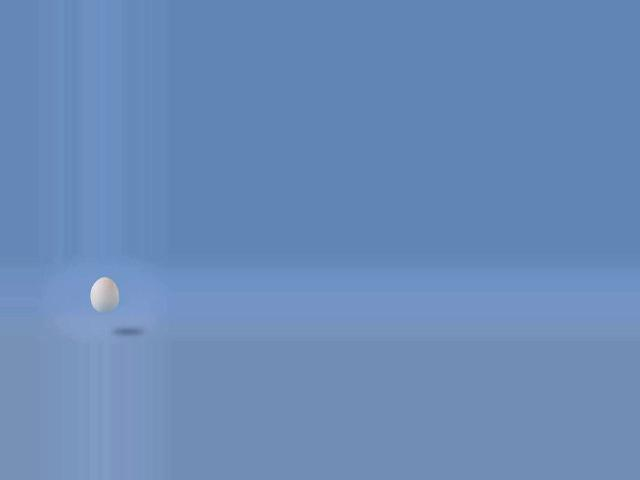egg: (89, 277, 119, 313)
